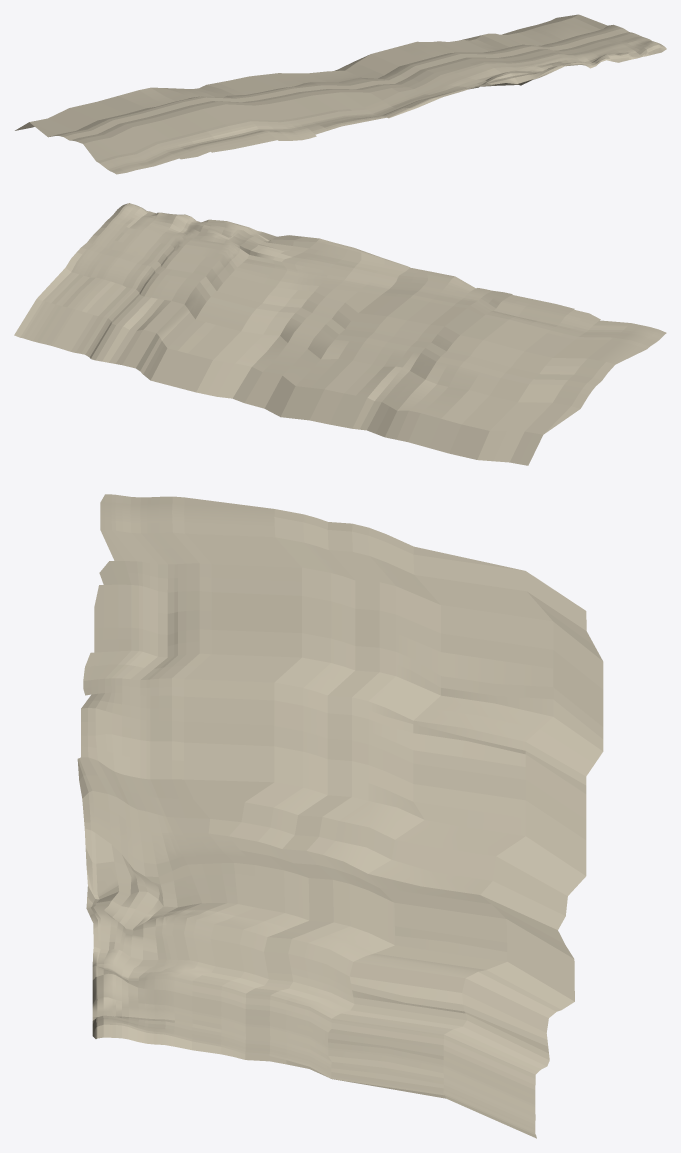
The model's file is ground for real.fbx.
3 views of the same model, one above another, from view 1: azimuth 30°, elevation 25°; view 2: azimuth 150°, elevation 25°; view 3: azimuth 270°, elevation 25° (orthographic). The views are drawn at different scales.
Parts seen in each view (by area): view 1: ground; view 2: ground; view 3: ground.
Part boxes in pixels (x1,y1,x2,y2): ground: (15,14,666,174); ground: (14,203,666,465); ground: (77,494,603,1138).
Size of the model in its own units: 259 by 30.1 by 108.
